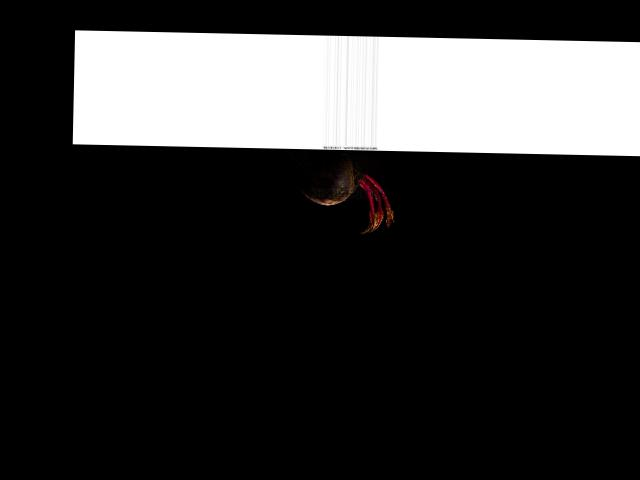beet: (281, 148, 395, 234)
